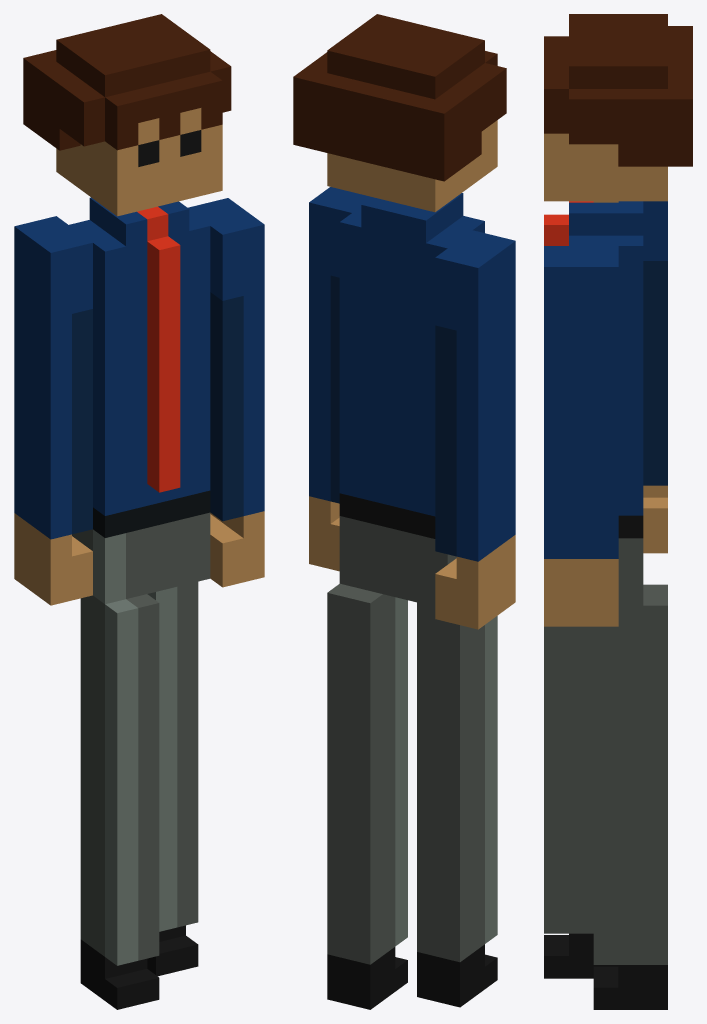
Rendered from Tony_Ethn2_Walking2.obj.
3 renders of one model, left to right at view 1: azimuth 30°, elevation 25°; view 2: azimuth 150°, elevation 25°; view 3: azimuth 270°, elevation 25°, orthographic. The views are drawn at different scales.
Parts seen in each view (by area): view 1: Tony_Ethn2_Walking2; view 2: Tony_Ethn2_Walking2; view 3: Tony_Ethn2_Walking2.
Part boxes in pixels (x1=…): Tony_Ethn2_Walking2: x1=14, y1=14, x2=264, y2=1009; Tony_Ethn2_Walking2: x1=293, y1=14, x2=515, y2=1009; Tony_Ethn2_Walking2: x1=544, y1=14, x2=692, y2=1009.
Bounding box in the file's own units: 9 × 42 × 6.
Materials: 1 (1 with a texture image).
